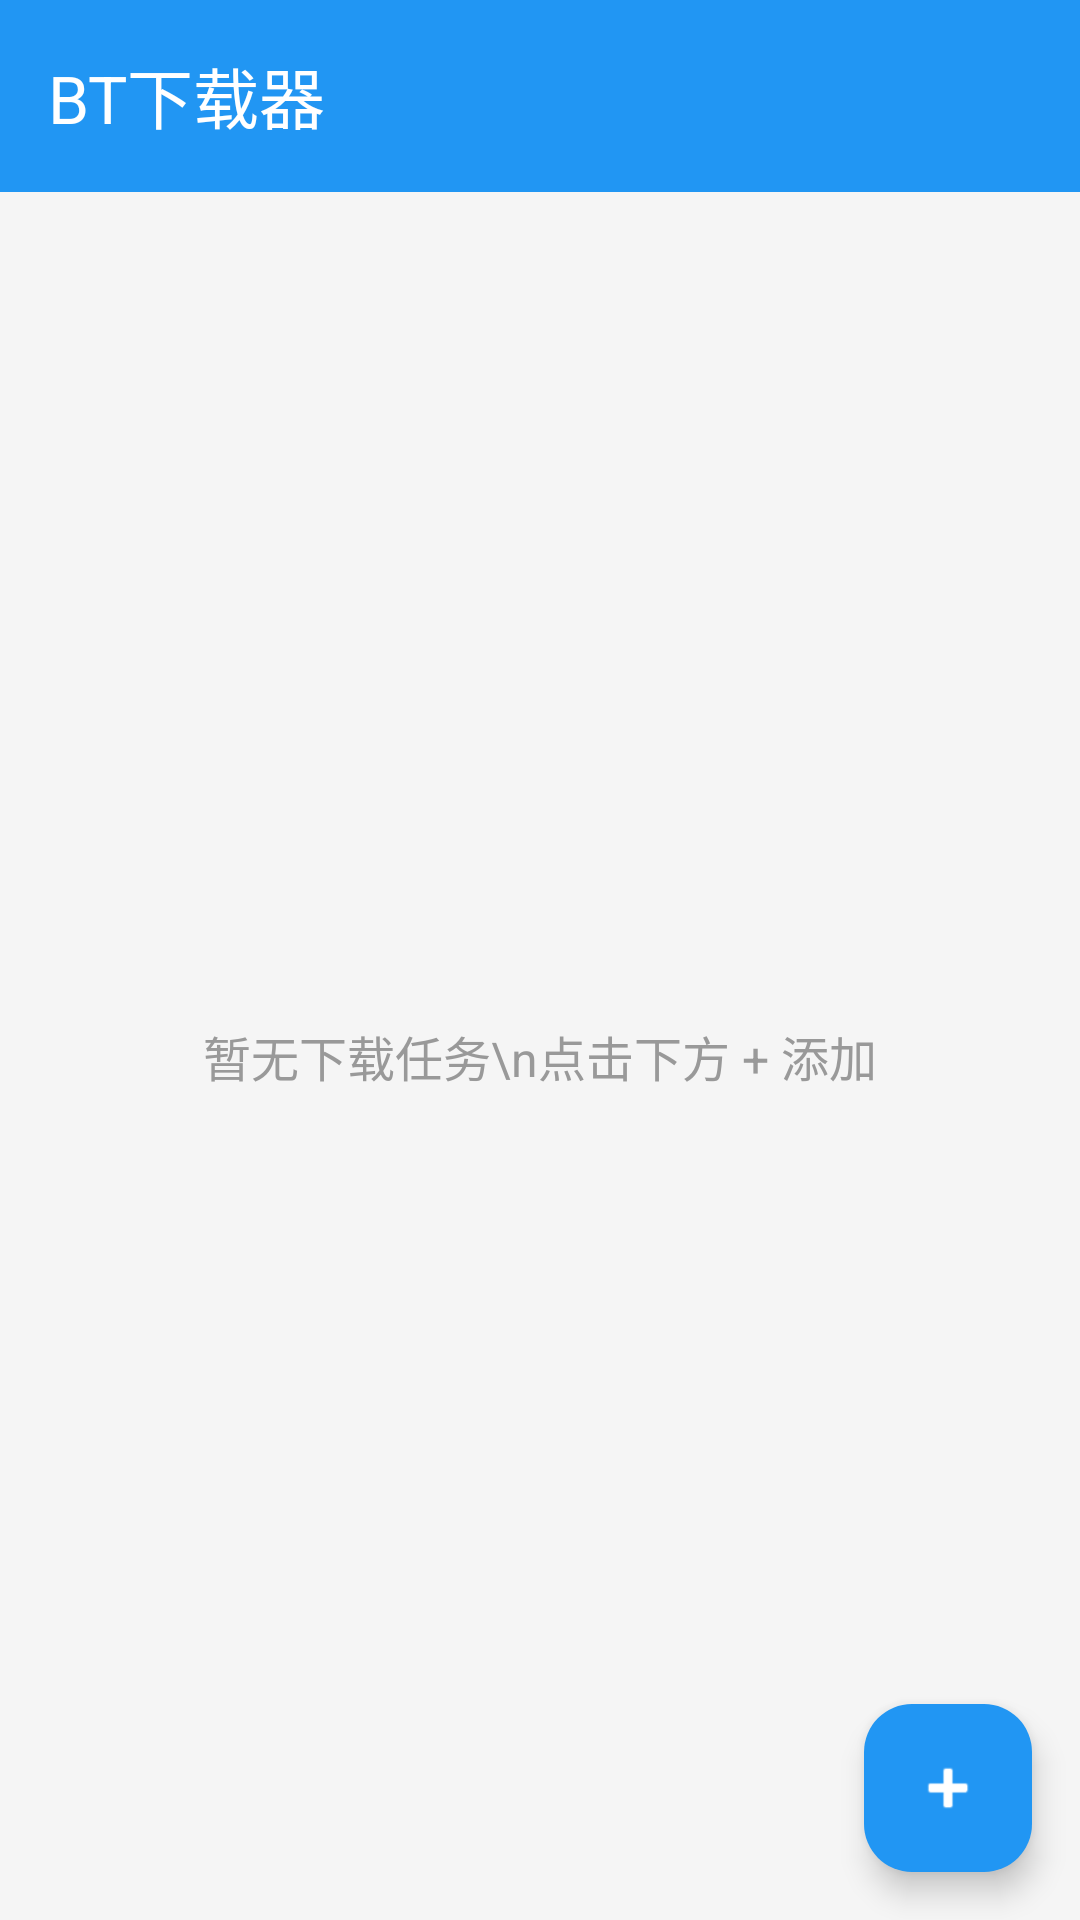

Icon bounding boxes for this 1080px×1920px phone screenshot, format BBox(x1, y1, x2, y2):
添加下载: BBox(864, 1704, 1032, 1872)
